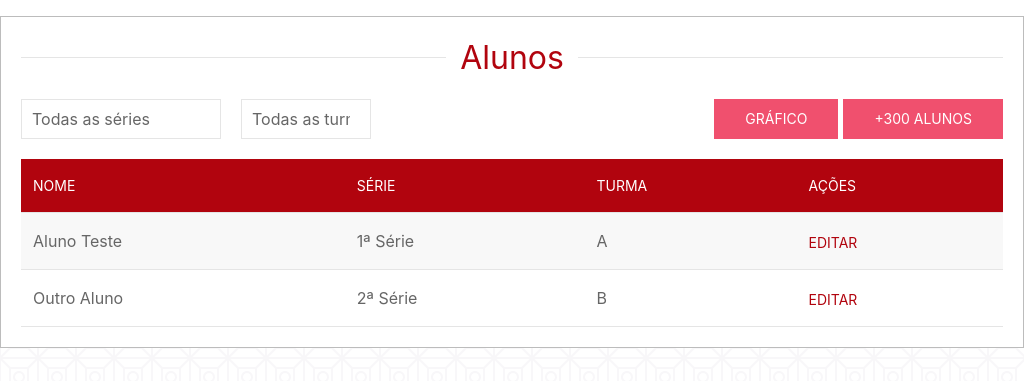
Test: Students Page › can start and cancel editing a student
Click the button "Editar" in the row of "Aluno Teste" at (833, 242), box [808,232,857,253]
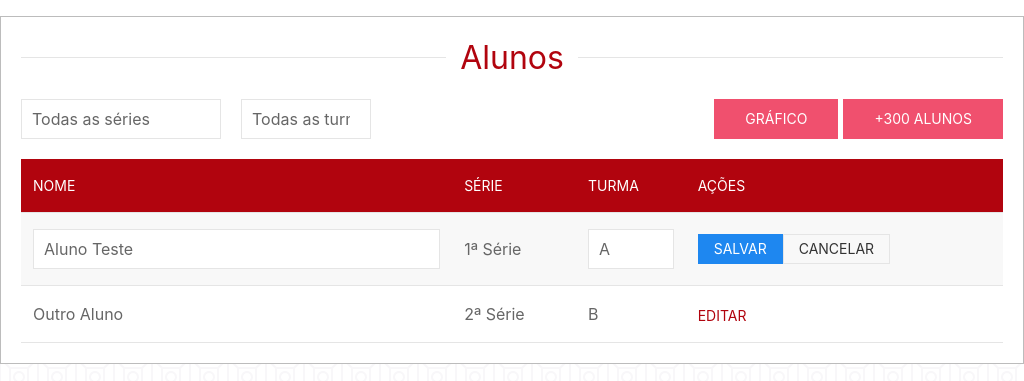
Expected: the button "Salvar" is shown, [698,234,783,264]
Click the button "Cancelar" at (836, 249), box [783,234,890,264]
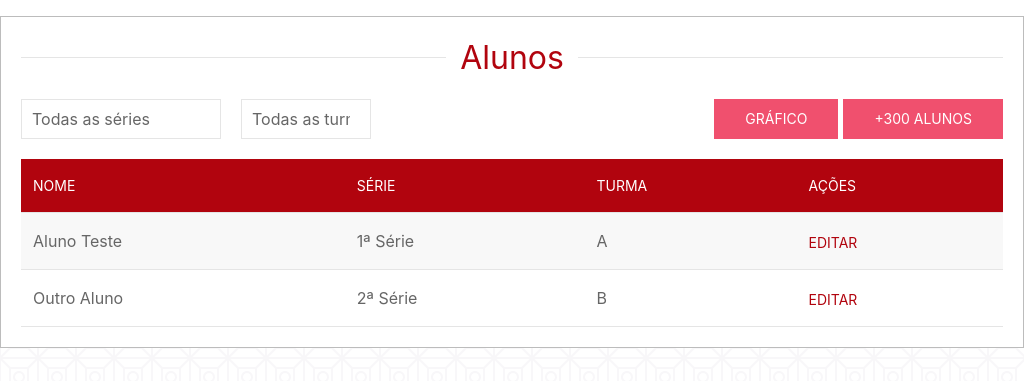
Expected: the button "Salvar" is gone
